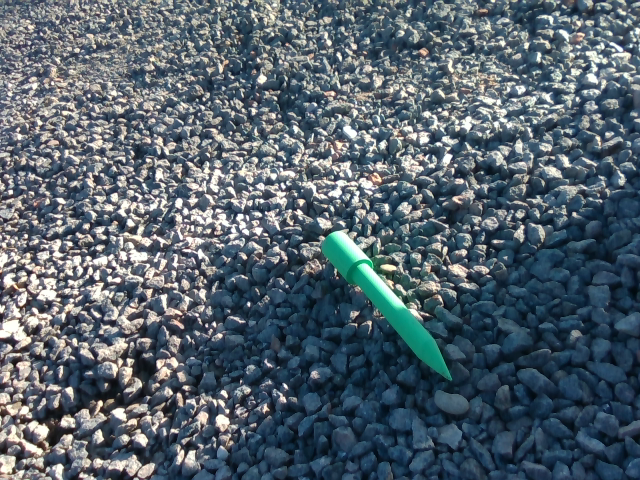Probe: (311, 227, 457, 380)
